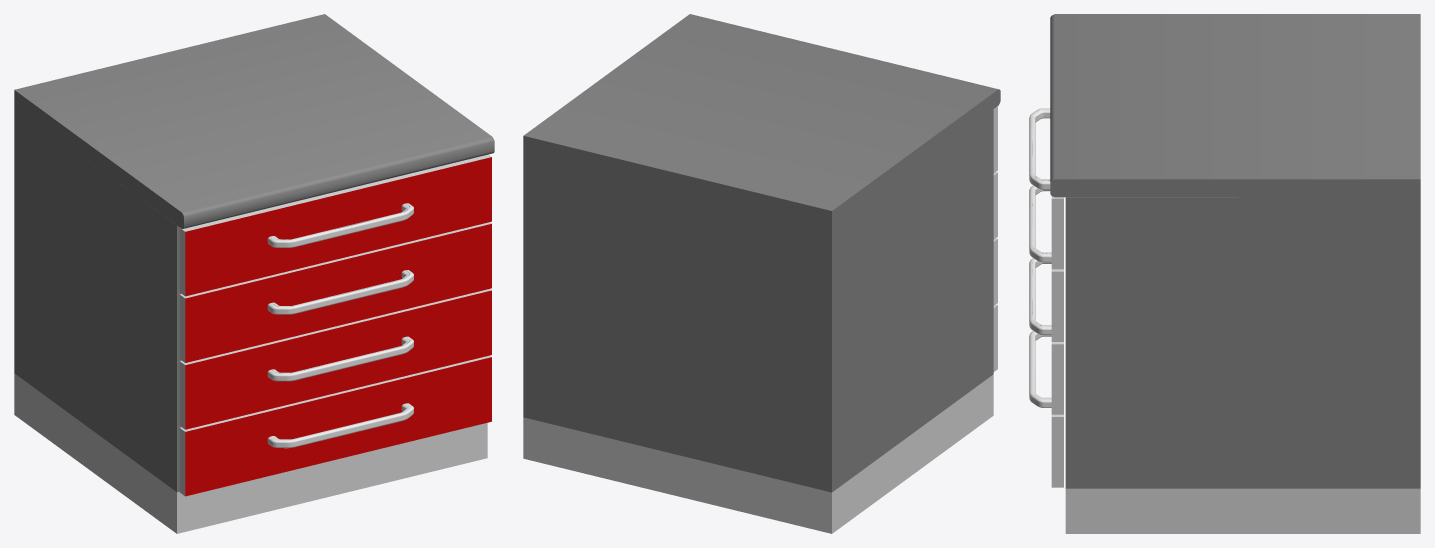
The model's file is sh-lp-cassettiera.glb.
The picture shows the model from 3 angles, left to right: view 1: azimuth 30°, elevation 25°; view 2: azimuth 150°, elevation 25°; view 3: azimuth 270°, elevation 25°; orthographic projection. The views are drawn at different scales.
Visible parts, largest first — view 1: Box562_5, Line68_3, Box55_1, Box56_4, Loft18_2; view 2: Box55_1, Line68_3, Box56_4; view 3: Box55_1, Line68_3, Box56_4, Loft18_2.
Part boxes in pixels (x1,y1,x2,y2): Box562_5: (185, 157, 491, 496); Line68_3: (14, 14, 494, 228); Box55_1: (14, 107, 181, 492); Box56_4: (14, 154, 491, 533); Loft18_2: (267, 203, 413, 448); Box55_1: (523, 109, 993, 492); Line68_3: (523, 14, 1000, 227); Box56_4: (523, 106, 997, 533); Box55_1: (1065, 197, 1420, 488); Line68_3: (1050, 14, 1420, 197); Box56_4: (1051, 196, 1420, 533); Loft18_2: (1029, 108, 1051, 407).
Bounding box in the file's own units: 1 × 1 × 1.
